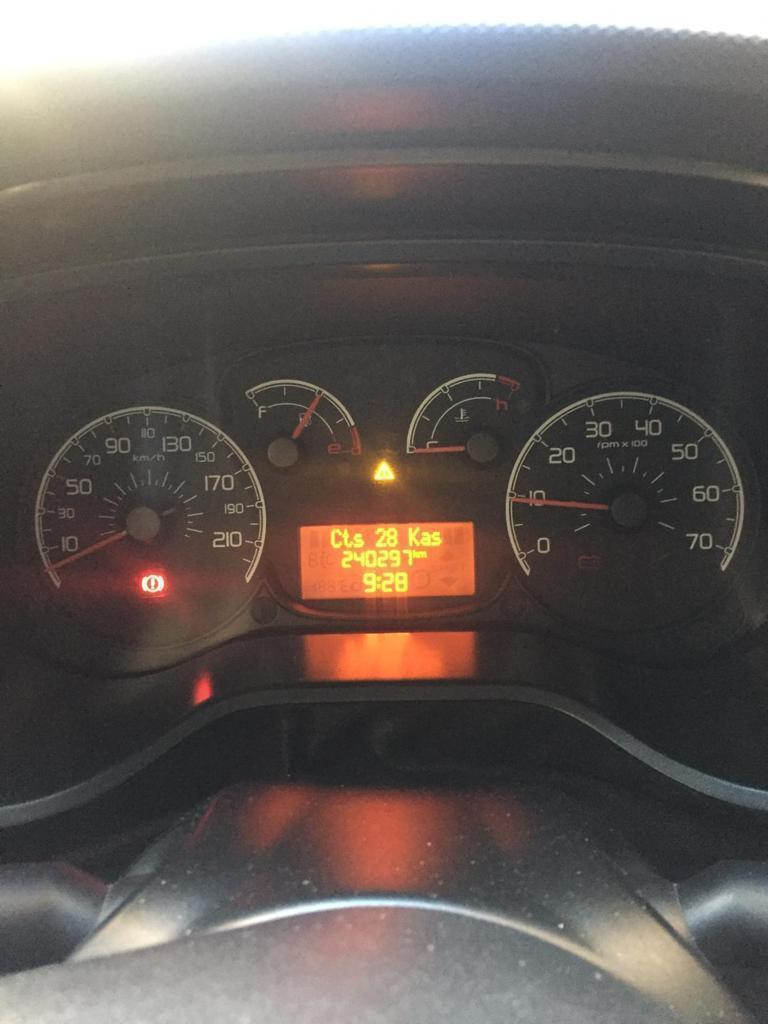0: (364, 549, 377, 567)
2: (381, 572, 393, 592), (340, 550, 353, 568), (375, 527, 386, 547), (377, 549, 388, 567)
4: (353, 551, 364, 567)
7: (402, 548, 412, 567)
8: (394, 571, 408, 592), (386, 527, 397, 547)
9: (362, 572, 376, 592), (388, 549, 400, 567)
X: (329, 527, 342, 548), (408, 527, 419, 546), (342, 529, 353, 547), (353, 532, 364, 548), (430, 531, 442, 545), (420, 531, 430, 546), (375, 575, 382, 588), (418, 550, 427, 558), (412, 549, 419, 558)
odometer: (297, 520, 477, 601)
